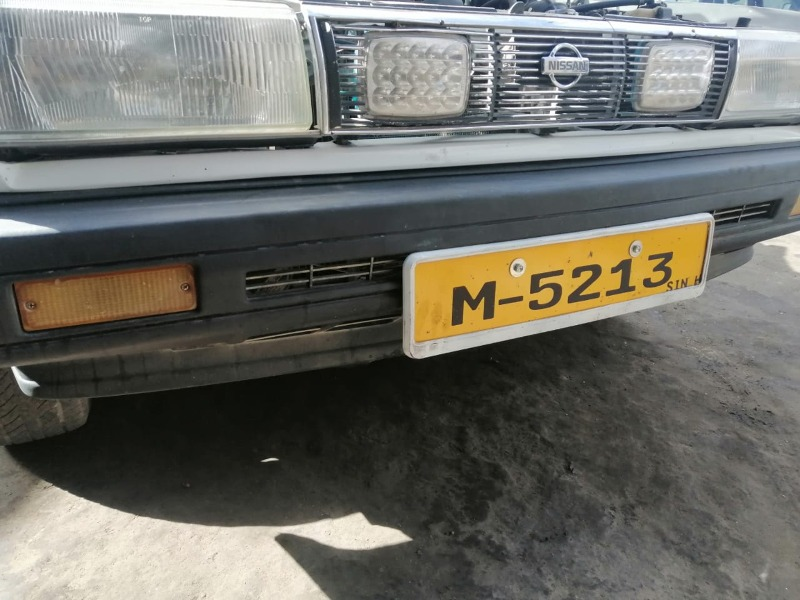License Plate: (402, 216, 722, 361)
